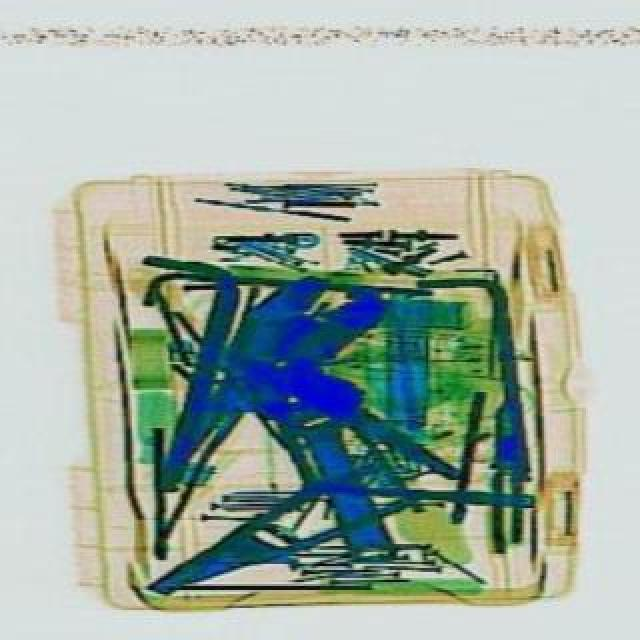scissors: (266, 352, 426, 580)
wrench: (148, 446, 422, 622)
